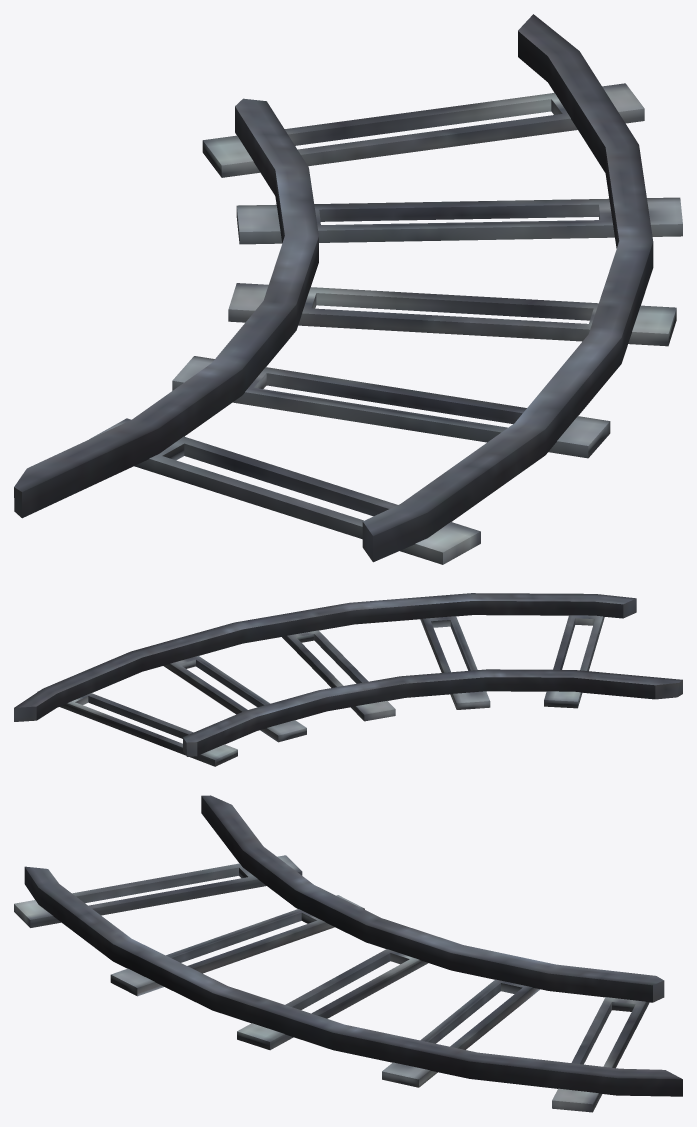
The model's file is yw_wanglingzhita_tiedao01.FBX.
3 views of the same model, one above another, from view 1: azimuth 30°, elevation 25°; view 2: azimuth 150°, elevation 25°; view 3: azimuth 270°, elevation 25° (orthographic). The views are drawn at different scales.
Parts seen in each view (by area): view 1: yw_wanglingzhita_tiedao01; view 2: yw_wanglingzhita_tiedao01; view 3: yw_wanglingzhita_tiedao01.
Part boxes in pixels (box(x1,y1,x2,y2)): yw_wanglingzhita_tiedao01: box(14, 14, 682, 564); yw_wanglingzhita_tiedao01: box(14, 593, 682, 766); yw_wanglingzhita_tiedao01: box(14, 795, 682, 1112).
Bounding box in the file's own units: 443 × 17.91 × 429.
